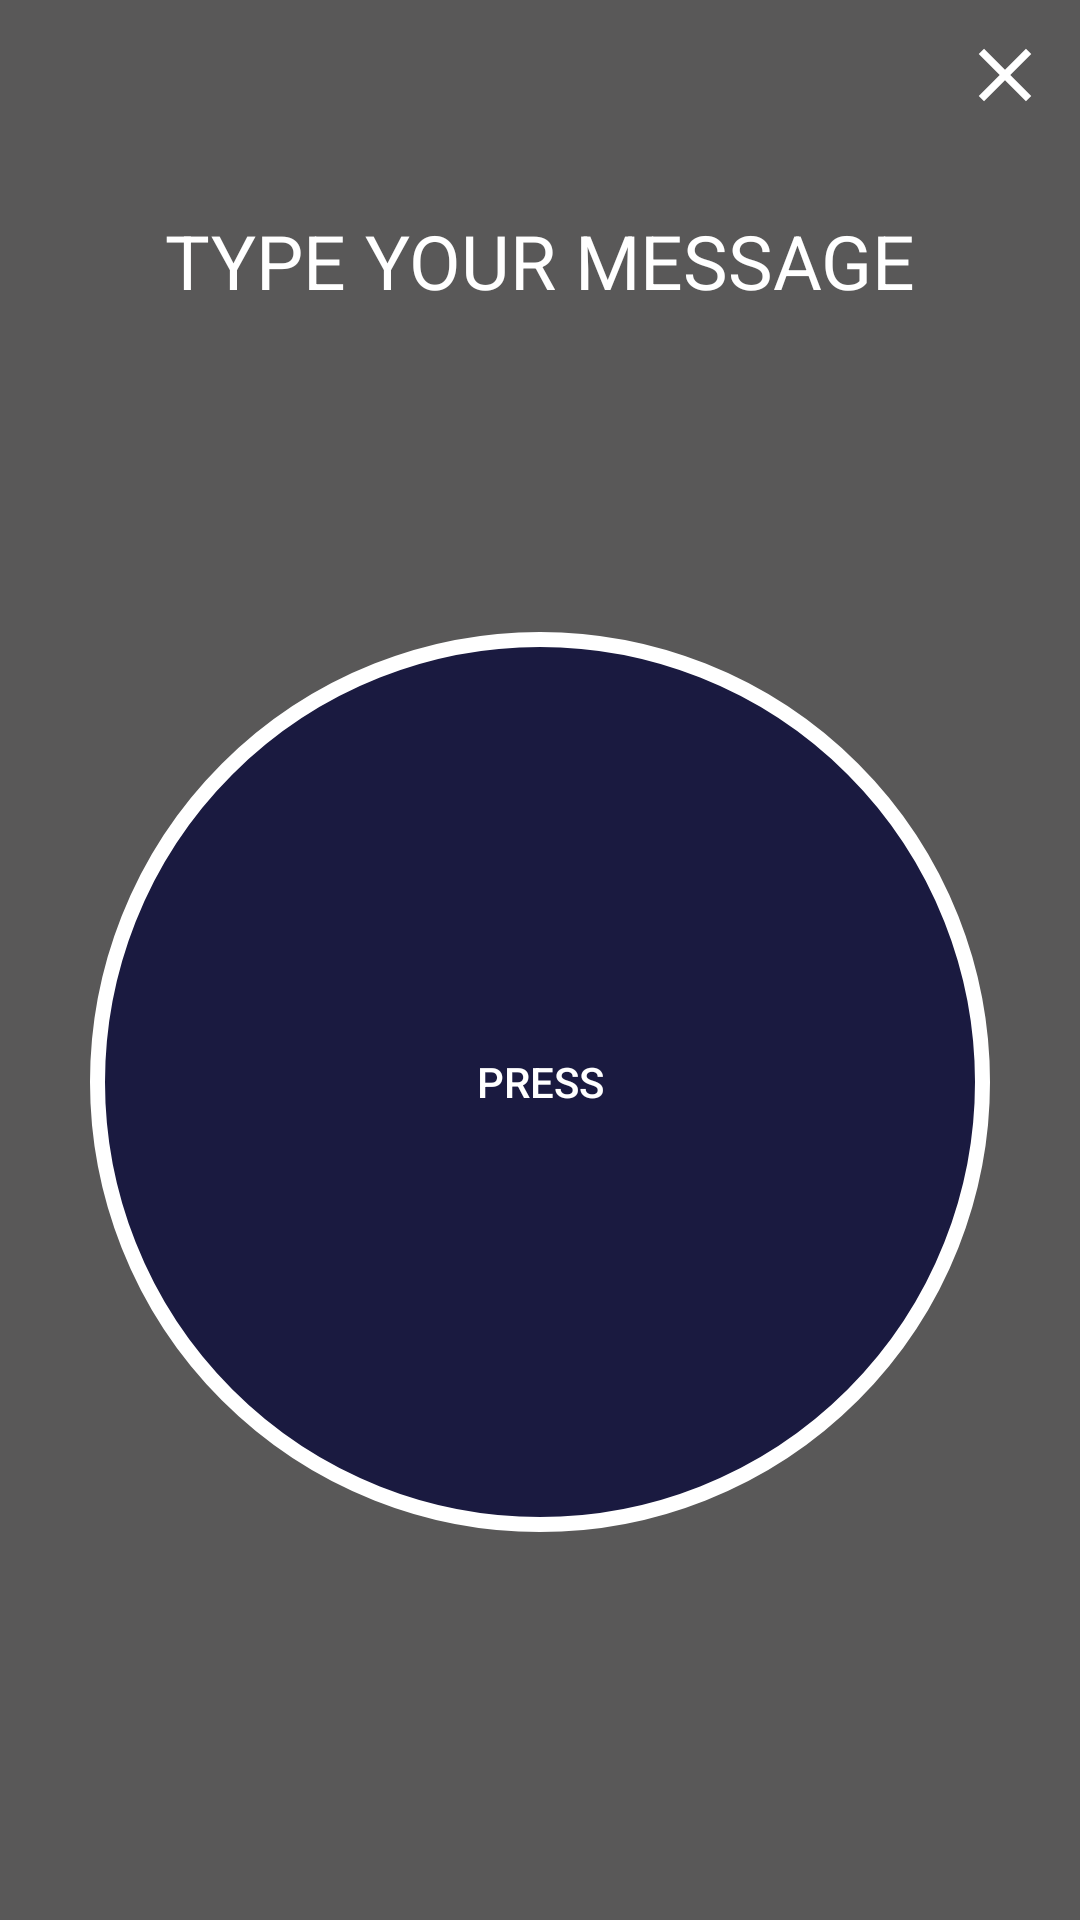

Screen size 1080px×1920px. Icon name, then its box in pixels as (x1, y1, x2, y2):
close: (979, 49, 1031, 101)
